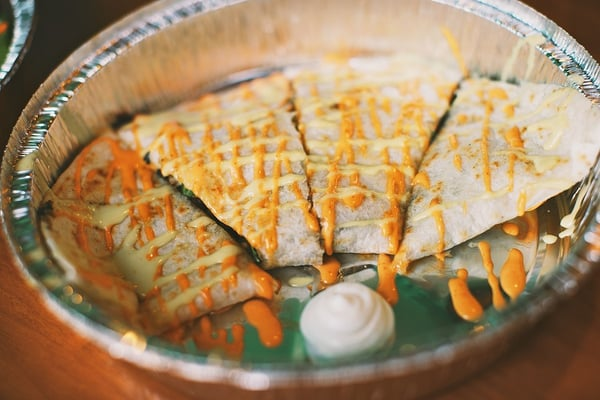soup: (402, 72, 599, 267)
